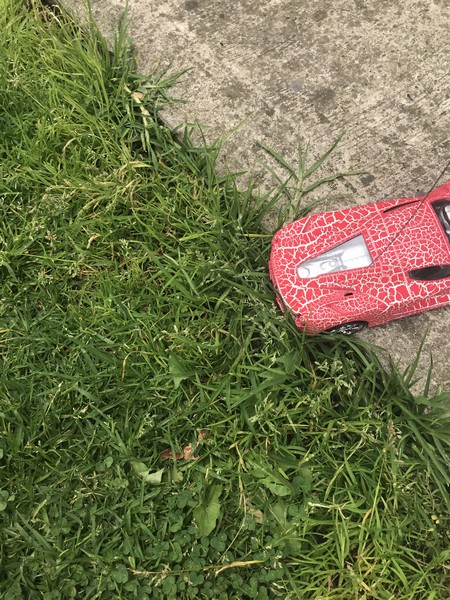RC: (268, 181, 450, 339)
